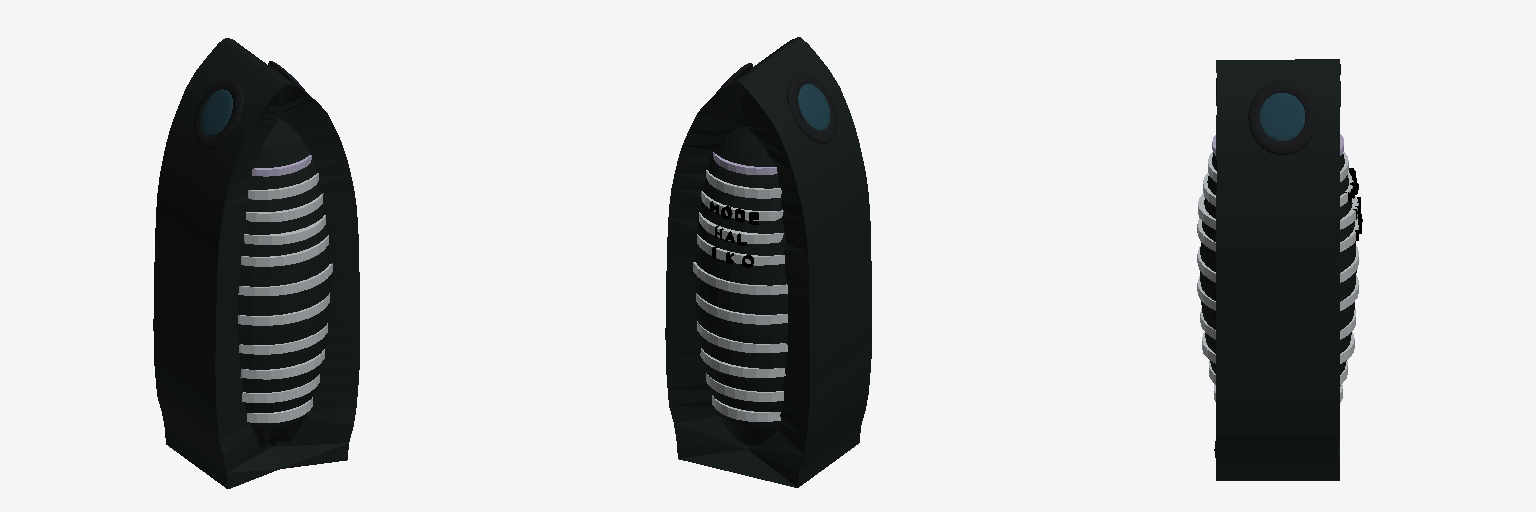
The model's file is cocoon_x.obj.
The picture shows the model from 3 angles: view 1: azimuth 30°, elevation 25°; view 2: azimuth 150°, elevation 25°; view 3: azimuth 270°, elevation 25°; orthographic projection.
Visible parts, largest first — view 1: 立方体_立方体.002, 球, 円柱.005, 円柱.006, 円柱.004, 円柱.003, 円柱.007, 円柱.008, 円柱.002, 円柱.009, 円柱.001, 円柱.010; view 2: 立方体_立方体.002, 球, 円柱.005, 円柱.006, 円柱.007, 円柱.008, 立方体.1906_立方体.1939, 円柱.009, 円柱.001, 円柱.003, 円柱.004, 円柱.010 (+2 smaller); view 3: 立方体_立方体.002, 球.001, 円柱.003.
Boxes of the visible parts, x1,y1,x2,y2 form: 立方体_立方体.002: [153, 38, 359, 488]; 球: [194, 79, 243, 148]; 円柱.005: [238, 263, 332, 295]; 円柱.006: [238, 293, 329, 325]; 円柱.004: [241, 235, 328, 266]; 円柱.003: [244, 215, 325, 244]; 円柱.007: [239, 323, 327, 354]; 円柱.008: [240, 349, 324, 379]; 円柱.002: [246, 193, 323, 221]; 円柱.009: [242, 374, 319, 402]; 円柱.001: [248, 173, 318, 199]; 円柱.010: [247, 397, 312, 422]; 立方体_立方体.002: [665, 37, 871, 487]; 球: [787, 73, 836, 143]; 円柱.005: [693, 262, 787, 294]; 円柱.006: [696, 293, 787, 324]; 円柱.007: [697, 321, 787, 352]; 円柱.008: [700, 348, 785, 377]; 立方体.1906_立方体.1939: [710, 201, 758, 267]; 円柱.009: [706, 373, 783, 401]; 円柱.001: [706, 170, 781, 198]; 円柱.003: [699, 212, 783, 243]; 円柱.004: [697, 234, 784, 265]; 円柱.010: [712, 395, 780, 421]; 立方体_立方体.002: [1200, 59, 1356, 480]; 球.001: [1248, 81, 1316, 154]; 円柱.003: [1198, 193, 1358, 229].
Bounding box in the file's own units: 0.8105 × 2.09 × 0.7995.